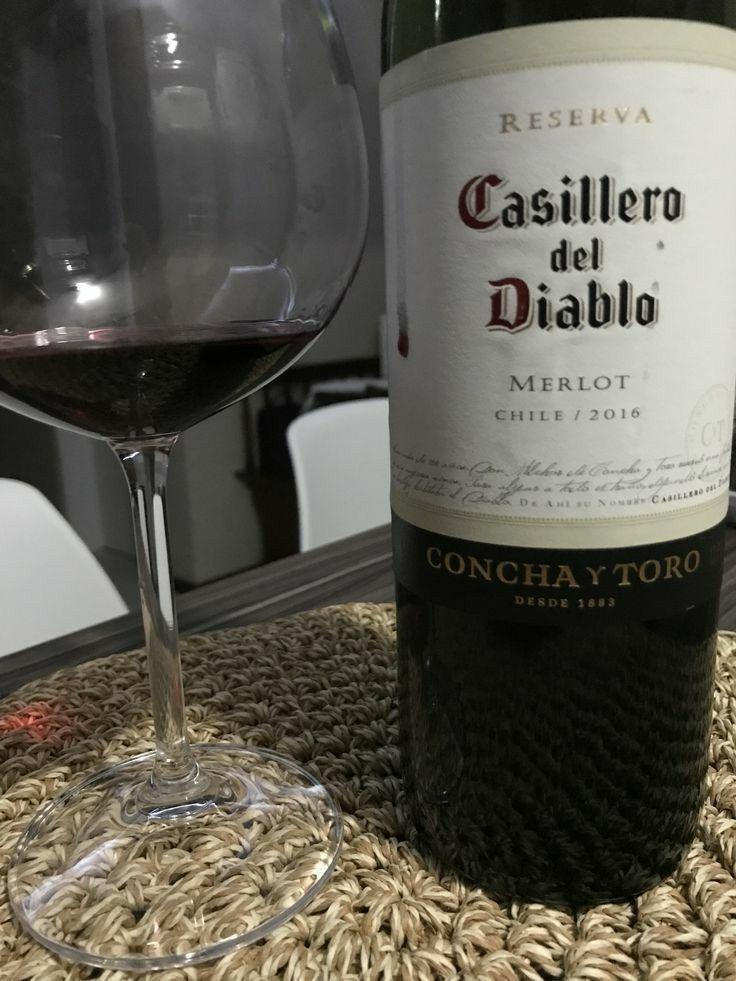bottle-glass: (361, 0, 736, 968)
glass-wine: (1, 1, 371, 961)
